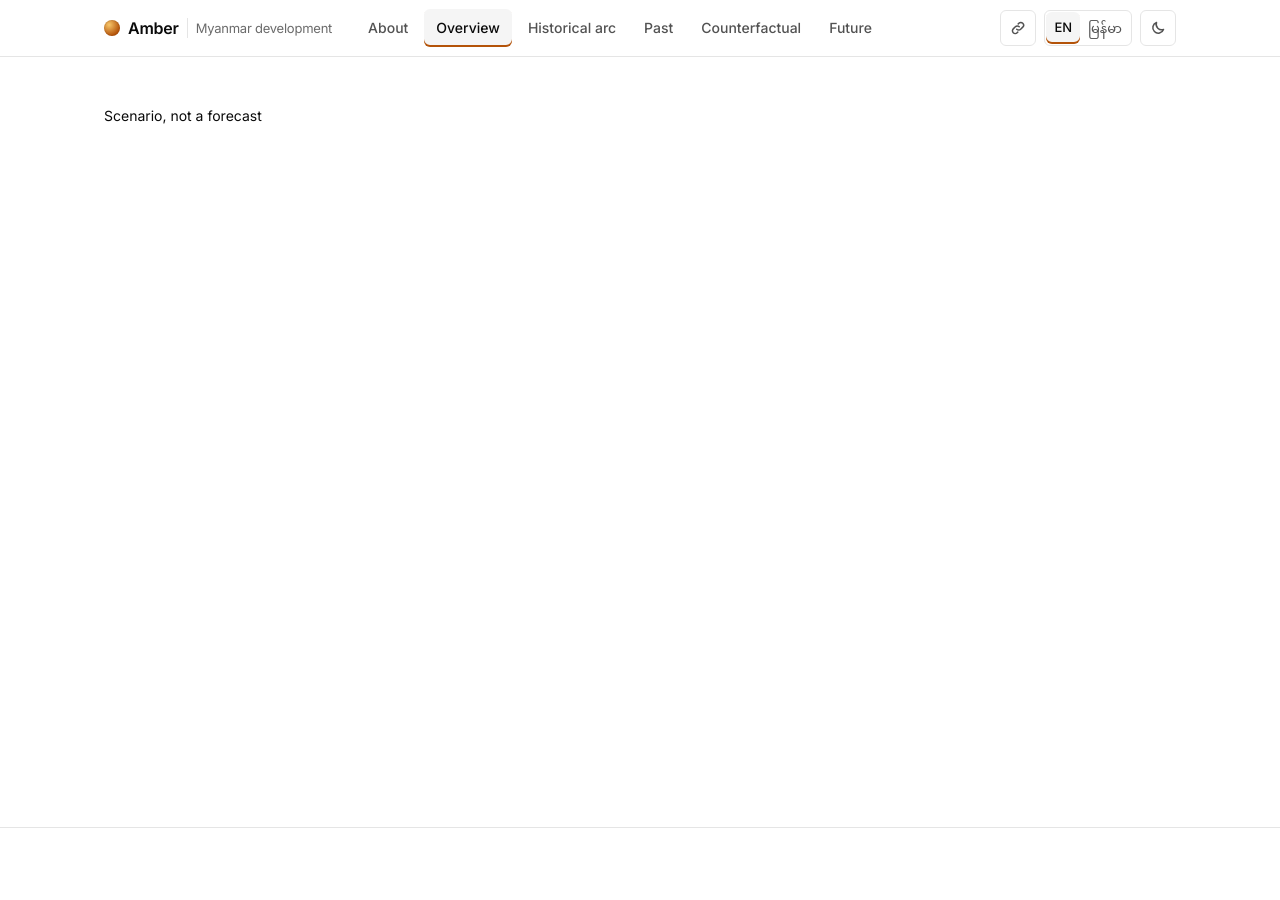
Test case: the language toggle › switches every UI string, the document language and back
Expected: the link "Historical arc" is shown, [528,19,616,36]
Expected: the text "Scenario, not a forecast" is shown, [104,107,262,124]
The Burmese catalog is its own chunk: it loads, then the page switches.
Click the button named "မြန်မာဘာသာ": (1105, 28) [1080,12,1130,44]
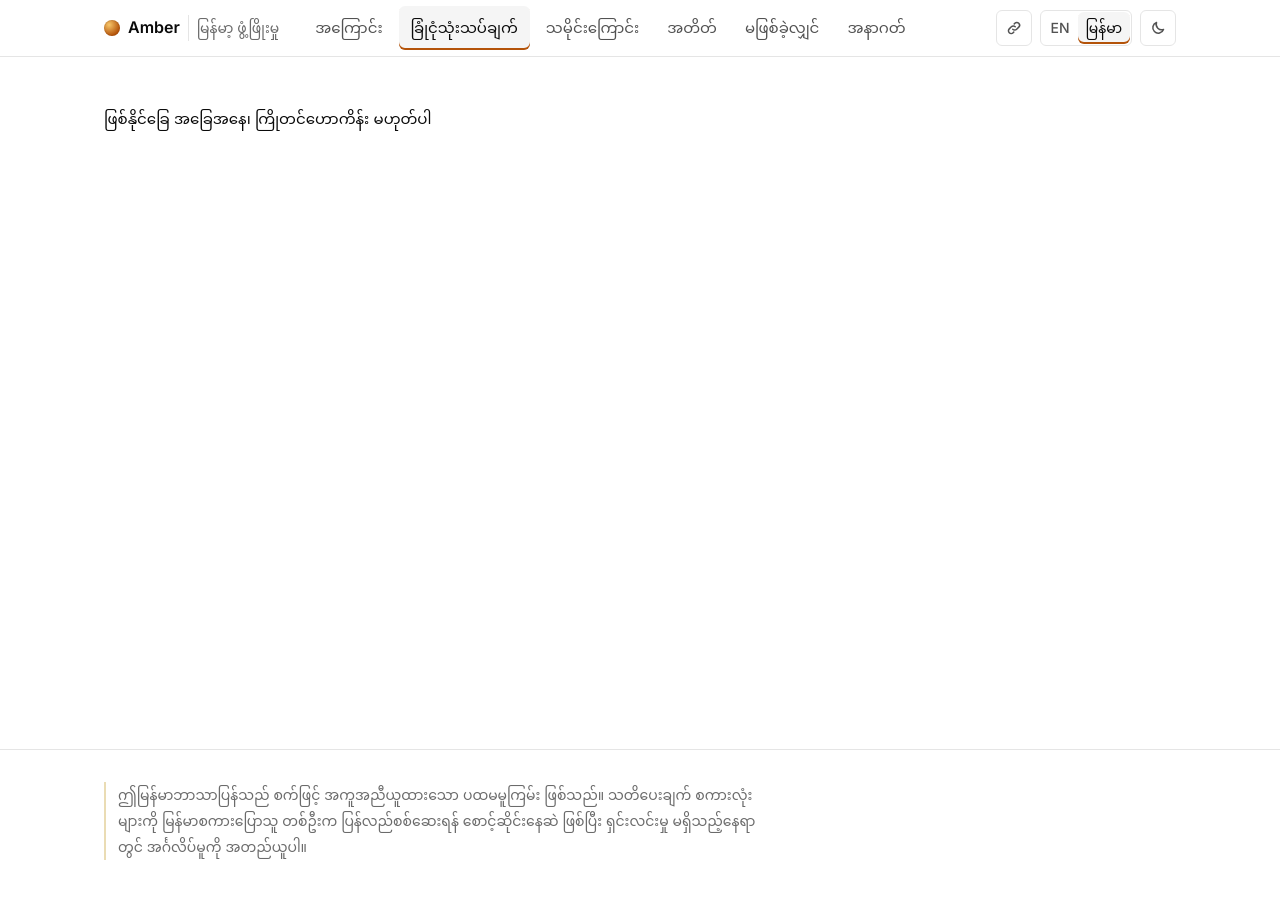
Expected: the link "သမိုင်းကြောင်း" is shown, [546,18,639,37]
Expected: the text "ဖြစ်နိုင်ခြေ အခြေအနေ၊ ကြိုတင်ဟောကိန်း မဟုတ်ပါ" is shown, [104,109,432,128]
Expected: the link "Historical arc" is gone
Click the button with aria-label "English": (1060, 28) [1042,12,1078,44]
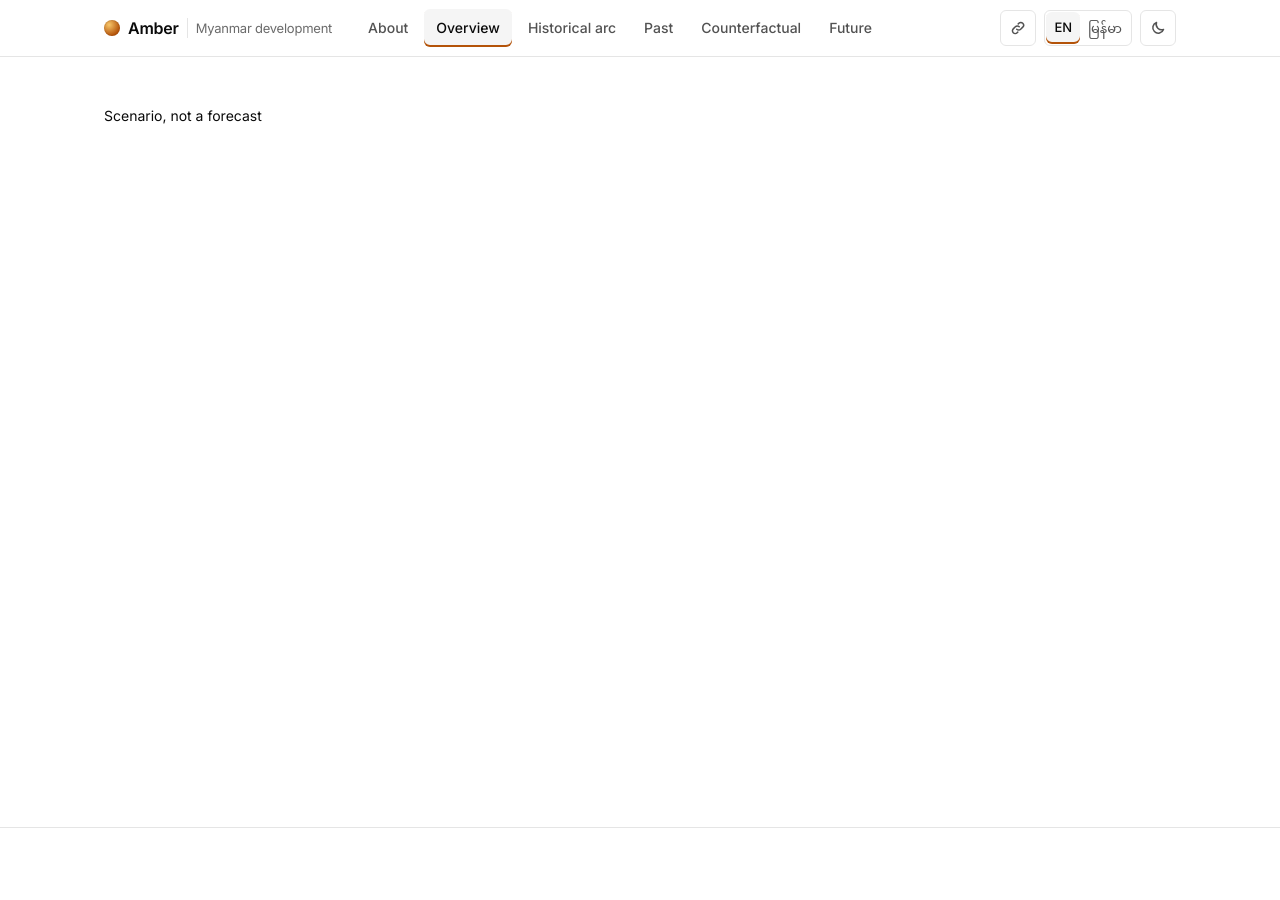
Expected: the link "Historical arc" is shown, [528,19,616,36]
